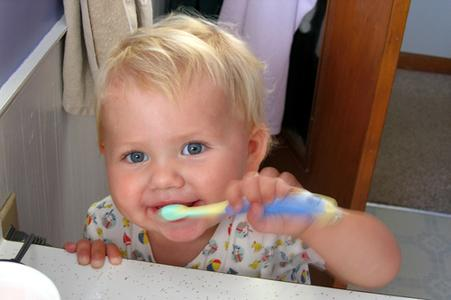person: (62, 13, 404, 293)
